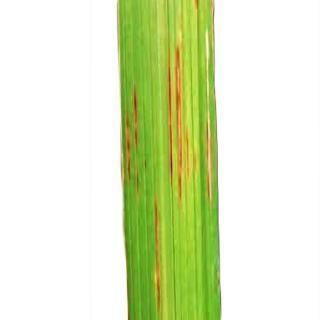Bercak-Cokelat-Sempit: (160, 29, 199, 204), (122, 80, 146, 192), (151, 200, 164, 315), (210, 1, 219, 77), (188, 0, 207, 14)
